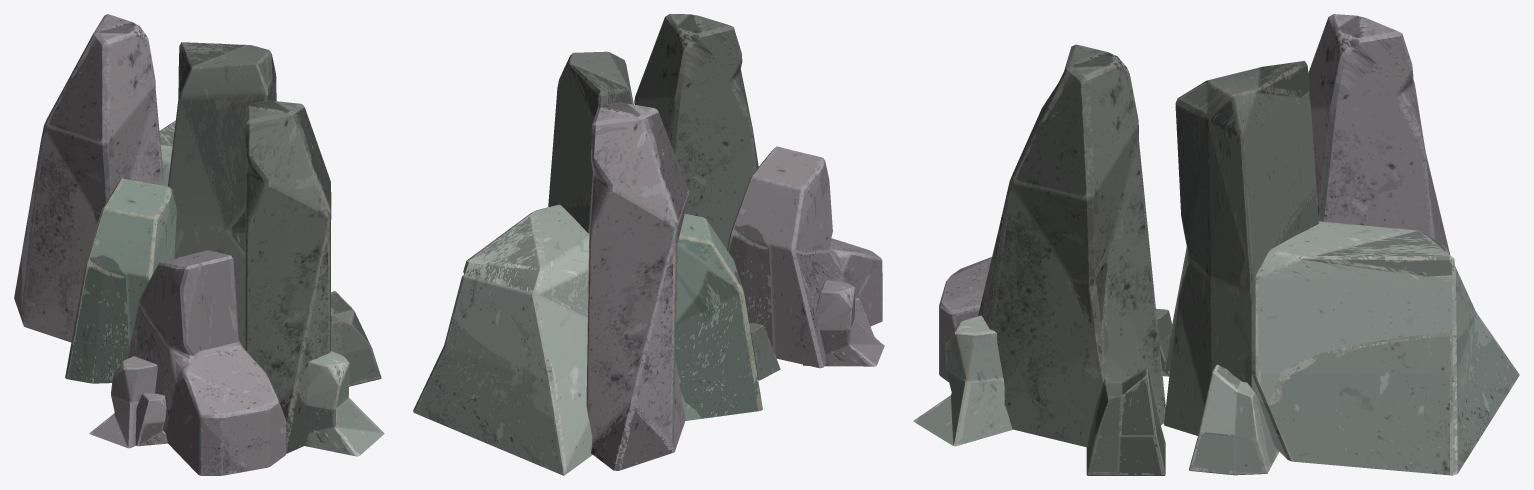
File: Stones_Max_4.fbx
3 renders of one model, left to right at view 1: azimuth 30°, elevation 25°; view 2: azimuth 150°, elevation 25°; view 3: azimuth 270°, elevation 25°, orthographic. The views are drawn at different scales.
Parts seen in each view (by area): view 1: polySurface22; view 2: polySurface22; view 3: polySurface22.
Boxes of the visible parts, left/top/right/bottom form: polySurface22: left=14, top=14, right=384, bottom=475; polySurface22: left=413, top=14, right=884, bottom=475; polySurface22: left=913, top=14, right=1519, bottom=475.
Bounding box in the file's own units: 658 × 650 × 977.
